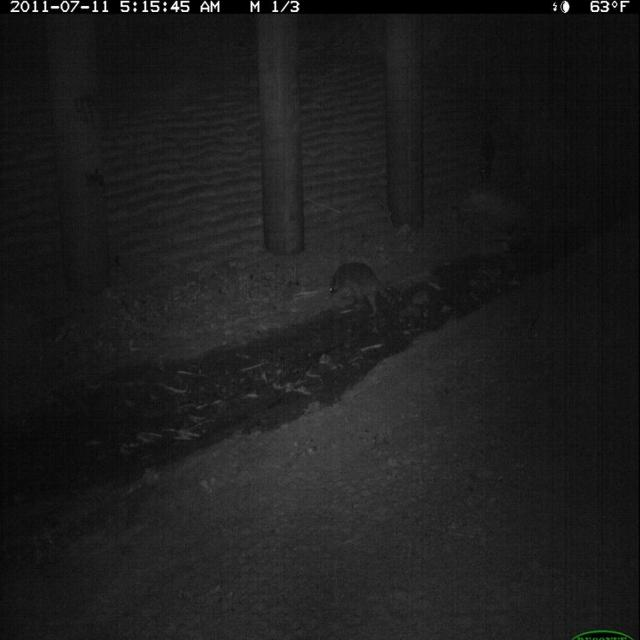raccoon: (326, 254, 404, 323)
